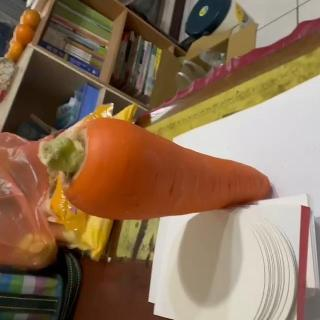carrot: (41, 116, 273, 220)
